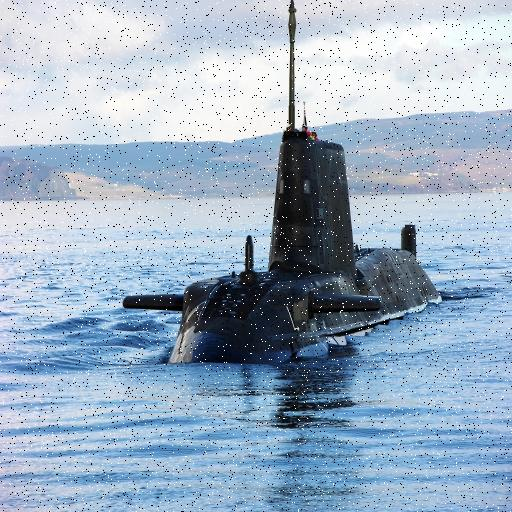submarine: (120, 1, 451, 371)
